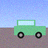vehicle: (14, 20, 45, 38)
